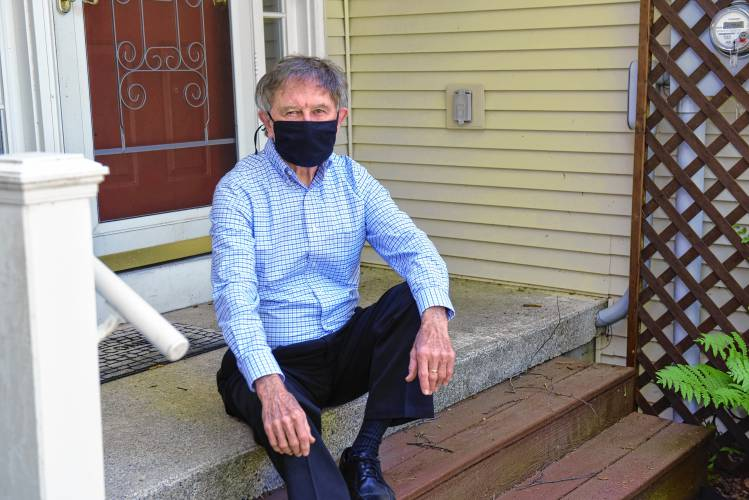with_mask: (254, 54, 360, 178)
